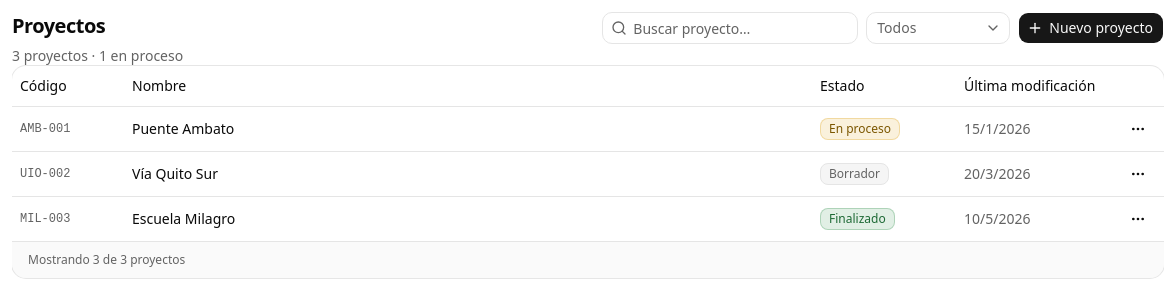
ListaProyectosPage › el filtro de estado filtra la lista
This screenshot has width=1176, height=296.
Expected: the link "Puente Ambato" is shown, [132, 118, 234, 138]
Step 1. Click the dropdown named "Filtrar por estado" → (938, 28), box [866, 12, 1010, 44]
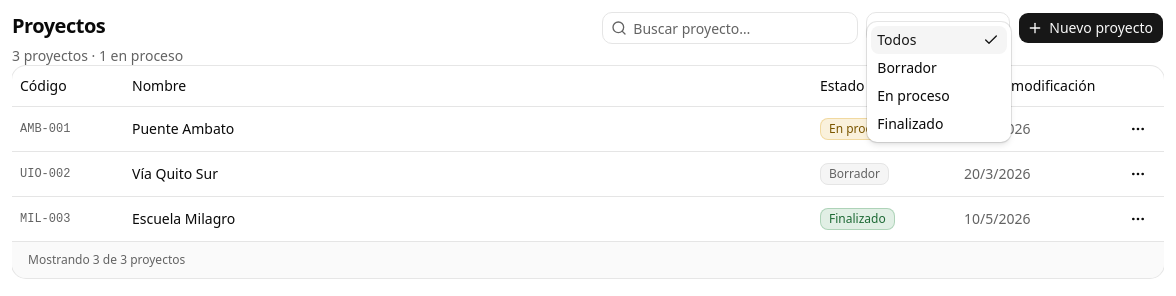
Step 2. Click the option "Borrador" → (907, 68), box [877, 58, 937, 77]
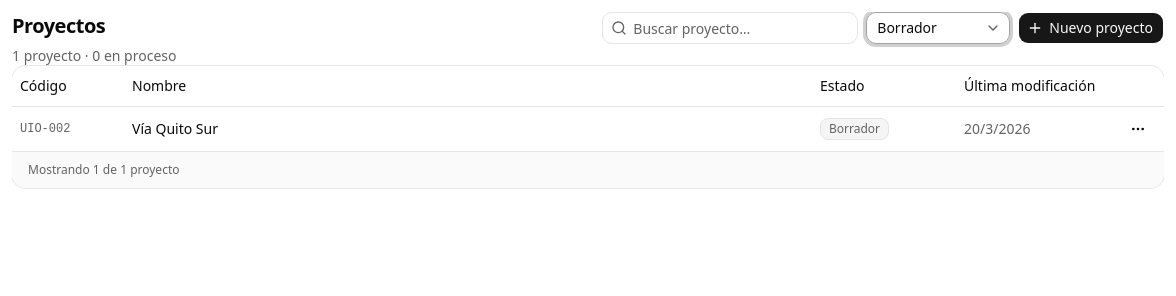
Expected: the link "Vía Quito Sur" is shown, [132, 118, 218, 138]
Result: the link "Puente Ambato" is gone
Result: the link "Escuela Milagro" is gone
